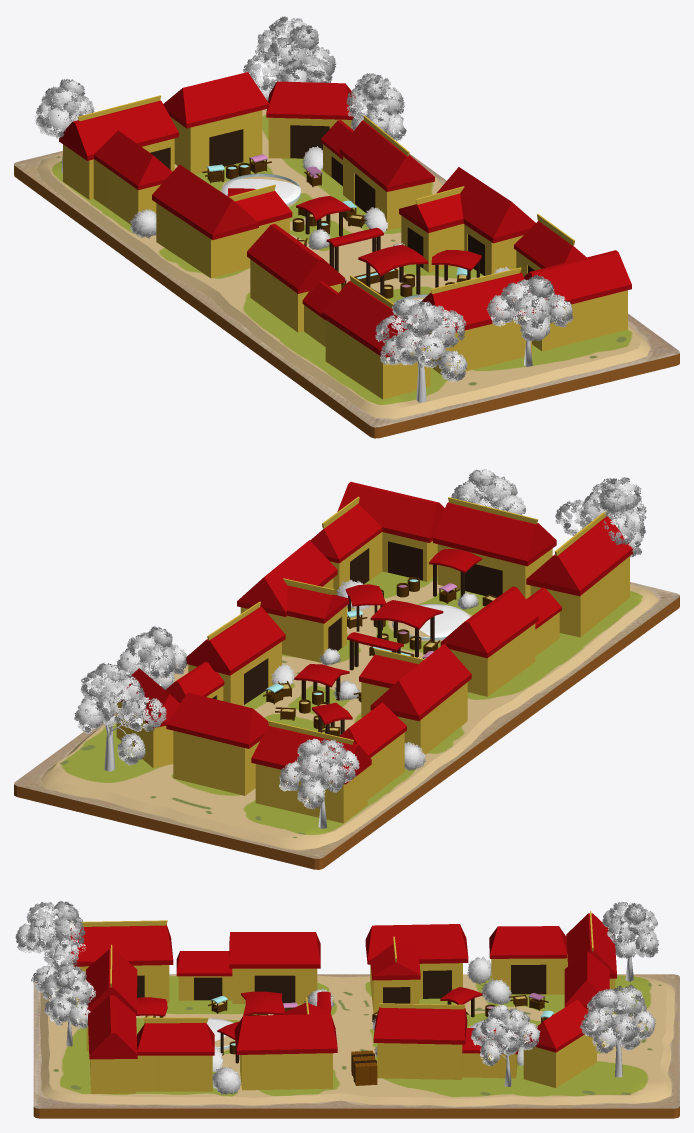
Rendered from Village Tile.fbx.
3 views of the same model, one above another, from view 1: azimuth 30°, elevation 25°; view 2: azimuth 150°, elevation 25°; view 3: azimuth 270°, elevation 25° (orthographic). The views are drawn at different scales.
Visible parts, largest first — view 1: Village Ground, Village, Cube.066, Leaves.010, Cube.083, Leaves.005, Cube.069, Cube.080, Cube.045, Cube.059, Leaves.009, Cube.073 (+27 smaller); view 2: Village Ground, Village, Cube.066, Leaves.005, Cube.095, Cube.083, Cube.075, Cube.046, Leaves.010, Cube.045, Cube.073, Leaves.008 (+30 smaller); view 3: Village Ground, Village, Cube.066, Cube.083, Leaves.010, Leaves.005, Cube.073, Cube.075, Cube.086, Cube.051, Cube.052, Cube.093 (+35 smaller).
Boxes of the visible parts, <box> form: Village Ground: <box>37,109,650,418</box>; Village: <box>14,114,679,438</box>; Cube.066: <box>152,164,292,240</box>; Leaves.010: <box>375,298,467,381</box>; Cube.083: <box>399,167,535,243</box>; Leaves.005: <box>243,16,335,101</box>; Cube.069: <box>156,203,289,278</box>; Cube.080: <box>325,320,430,399</box>; Cube.045: <box>163,72,269,128</box>; Cube.059: <box>59,100,178,160</box>; Leaves.009: <box>486,274,573,342</box>; Cube.073: <box>247,224,344,293</box>; Village Ground: <box>40,571,658,850</box>; Village: <box>14,582,679,869</box>; Cube.066: <box>359,643,471,720</box>; Leaves.005: <box>74,662,166,765</box>; Cube.095: <box>433,502,556,566</box>; Cube.083: <box>237,540,349,623</box>; Cube.075: <box>526,516,633,596</box>; Cube.046: <box>173,730,259,795</box>; Leaves.010: <box>555,477,646,557</box>; Cube.045: <box>166,692,268,748</box>; Cube.073: <box>440,586,538,658</box>; Leaves.008: <box>279,738,359,809</box>; Village Ground: <box>40,974,674,1106</box>; Village: <box>33,974,679,1118</box>; Cube.066: <box>365,924,468,980</box>; Cube.083: <box>234,1003,337,1054</box>; Leaves.010: <box>15,901,85,992</box>; Leaves.005: <box>579,984,655,1053</box>; Cube.073: <box>229,932,320,968</box>; Cube.075: <box>70,924,173,966</box>; Cube.086: <box>240,1053,332,1090</box>; Cube.051: <box>373,1007,467,1044</box>; Cube.052: <box>377,1043,462,1079</box>; Cube.093: <box>135,1055,212,1091</box>.
Size of the model in its own units: 2.98 by 1.08 by 6.18.
